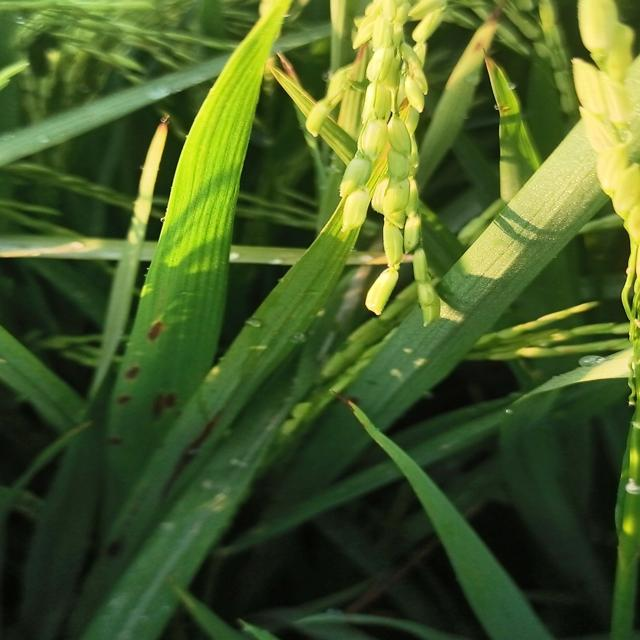insects: (140, 304, 180, 353), (142, 382, 184, 428), (108, 376, 143, 418), (114, 350, 153, 387), (98, 420, 133, 459), (100, 528, 133, 568)
